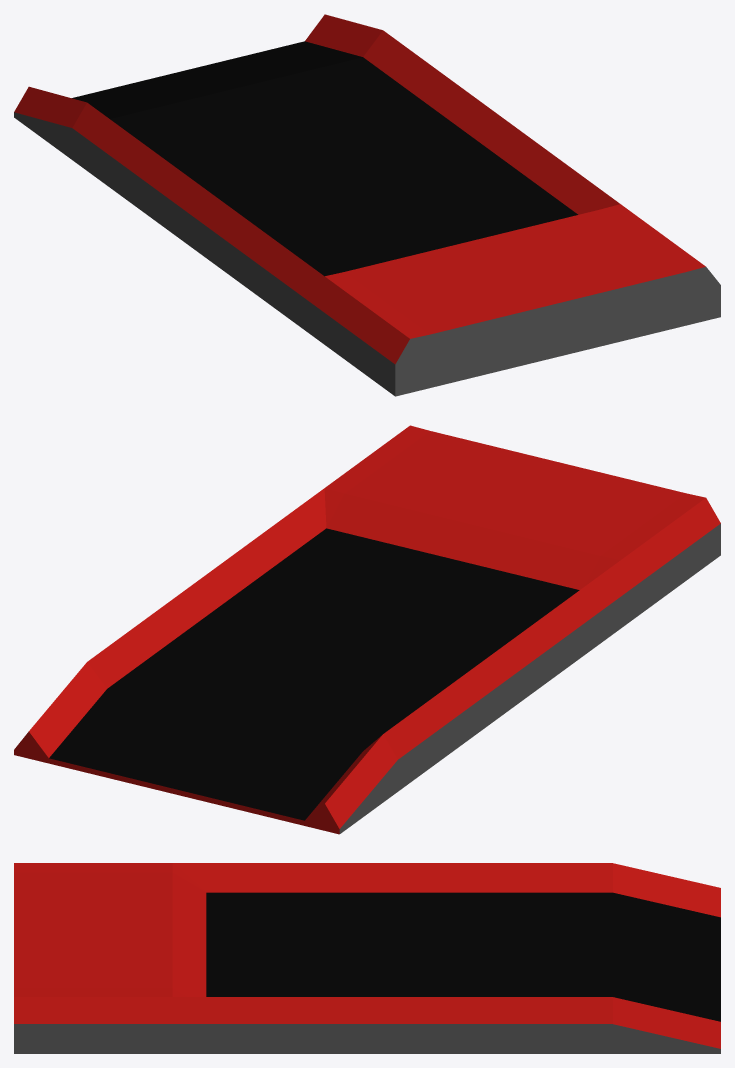
The model's file is BoosterGround.glb.
3 views of the same model, one above another, from view 1: azimuth 30°, elevation 25°; view 2: azimuth 150°, elevation 25°; view 3: azimuth 270°, elevation 25° (orthographic). The views are drawn at different scales.
Visible parts, largest first — view 1: Cube.001; view 2: Cube.001; view 3: Cube.001.
Boxes of the visible parts, left/top/right/bottom form: Cube.001: left=14, top=14, right=720, bottom=396; Cube.001: left=14, top=425, right=720, bottom=834; Cube.001: left=14, top=863, right=720, bottom=1053.
Size of the model in its own units: 1.5 by 0.2386 by 3.05.
